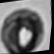correct: (0, 1, 54, 54)
